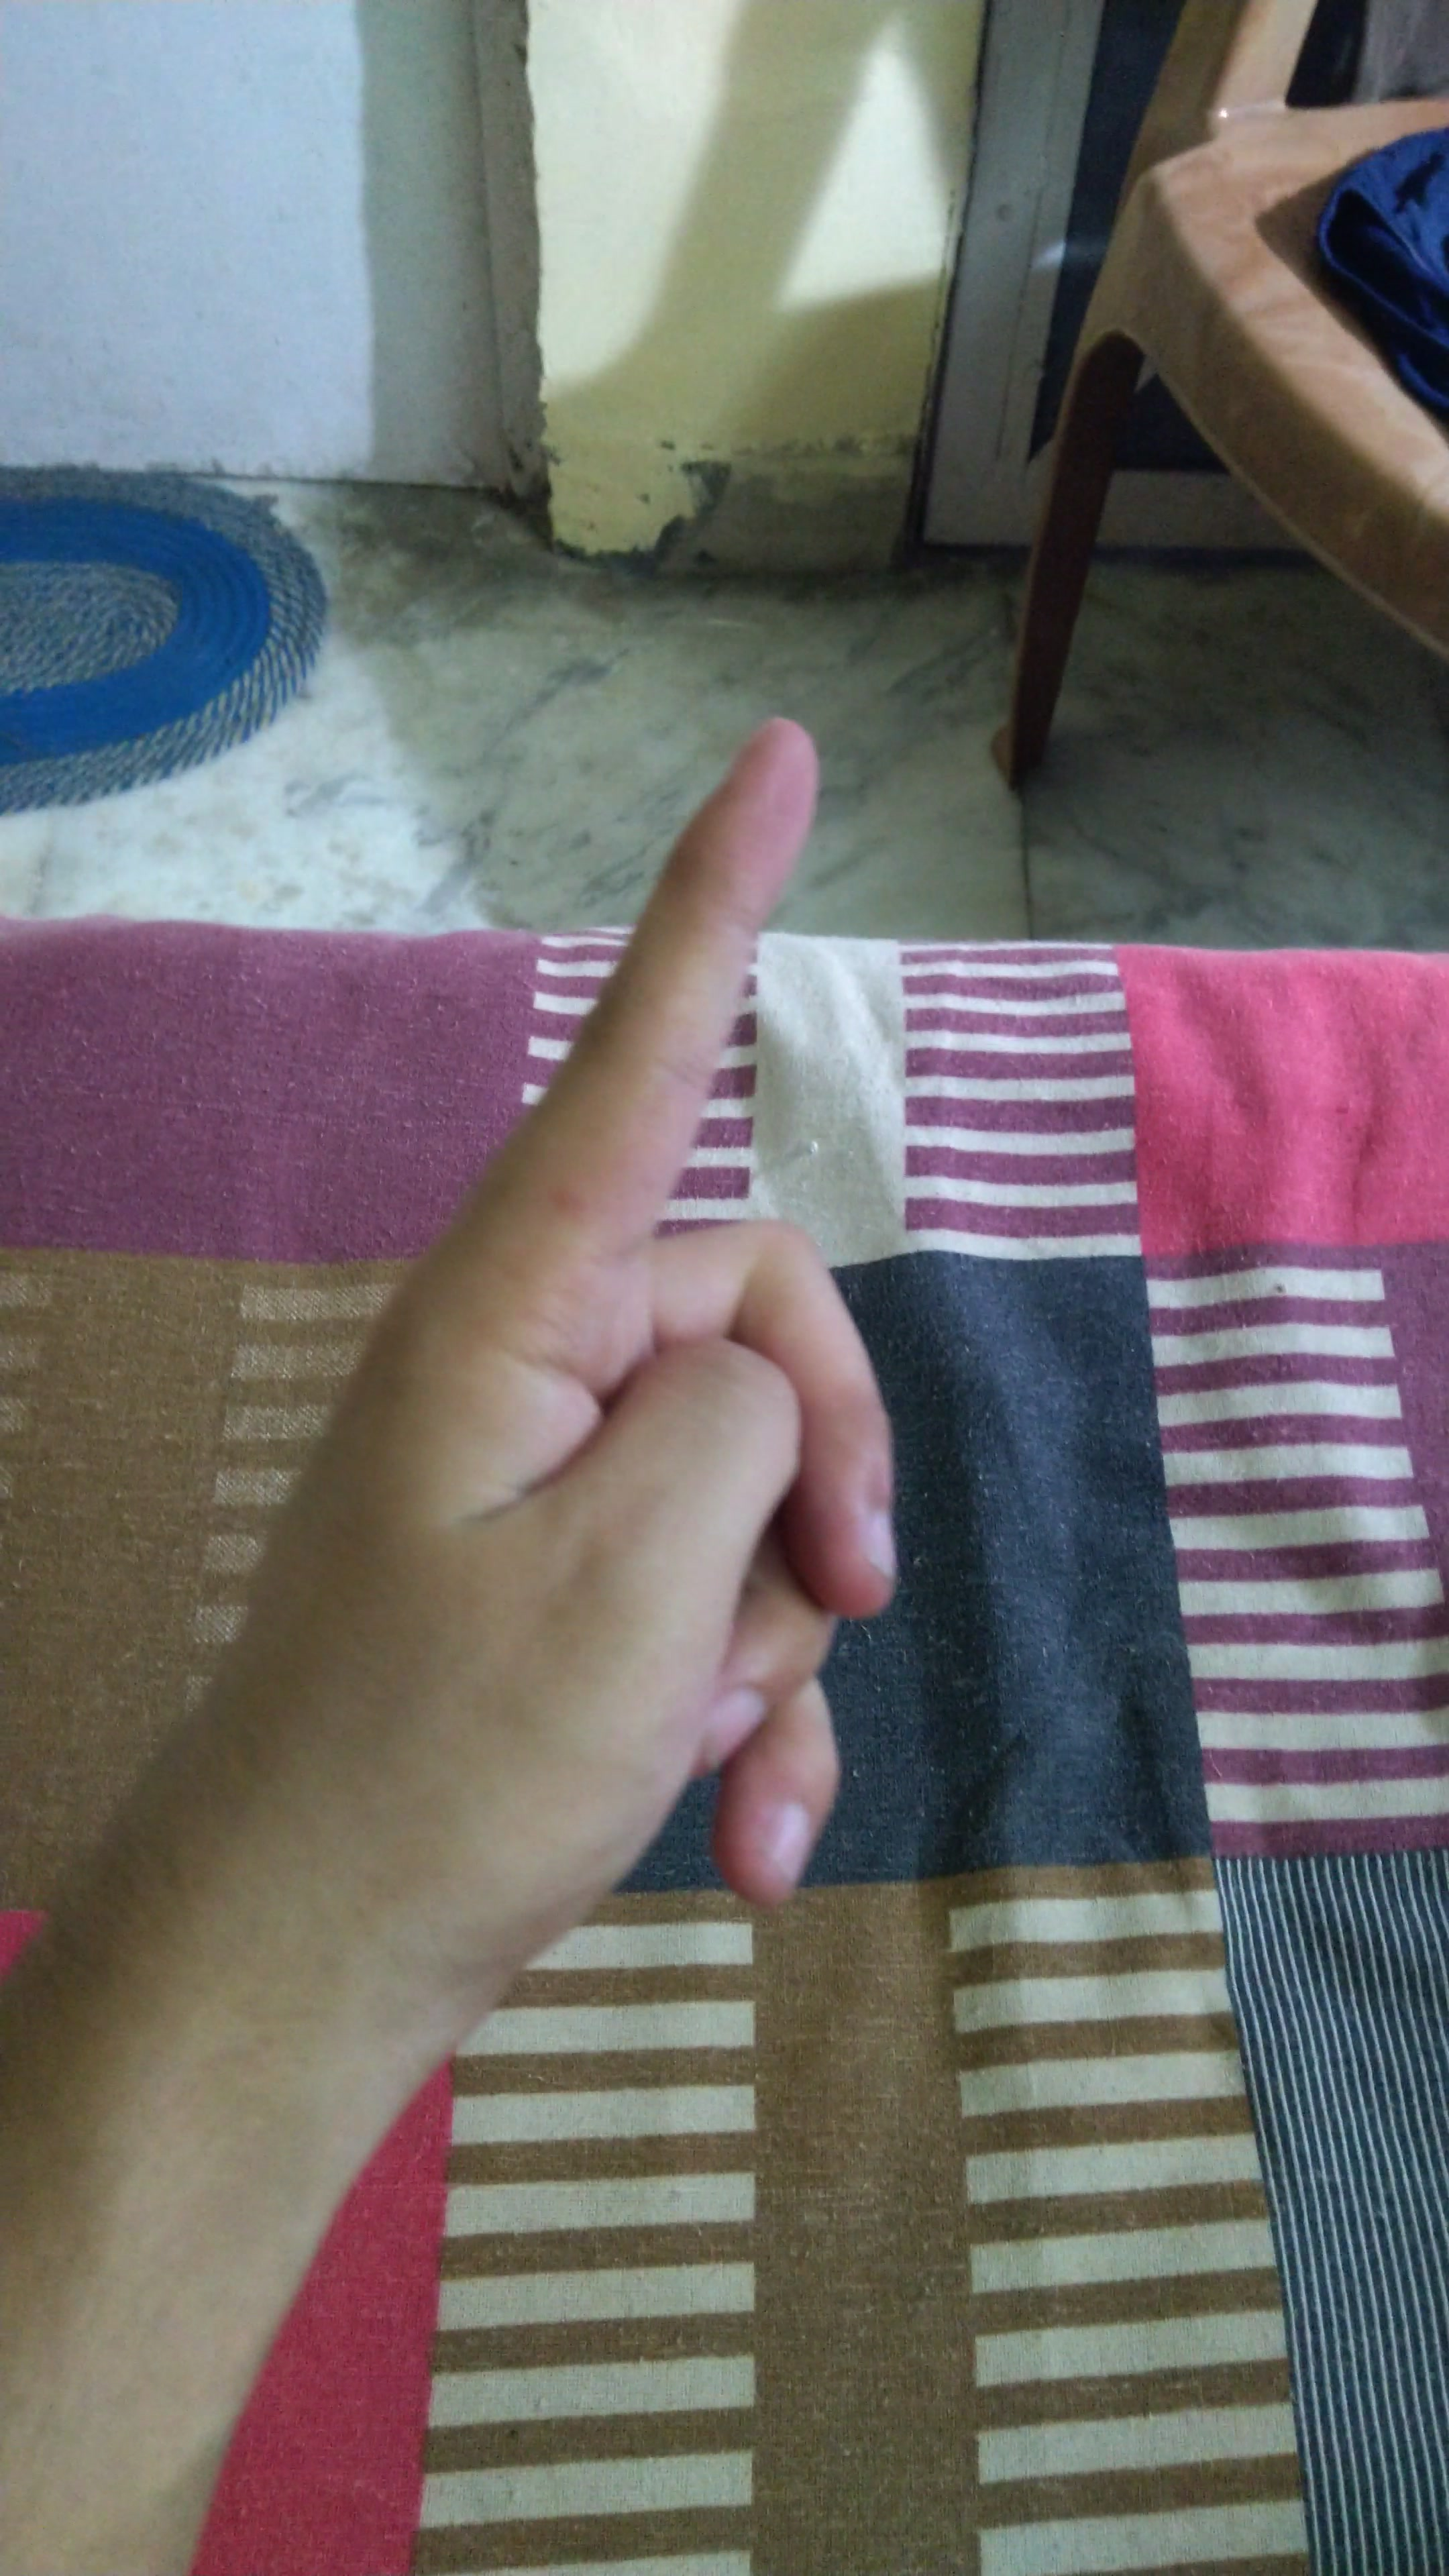hand: (219, 658, 966, 2006)
